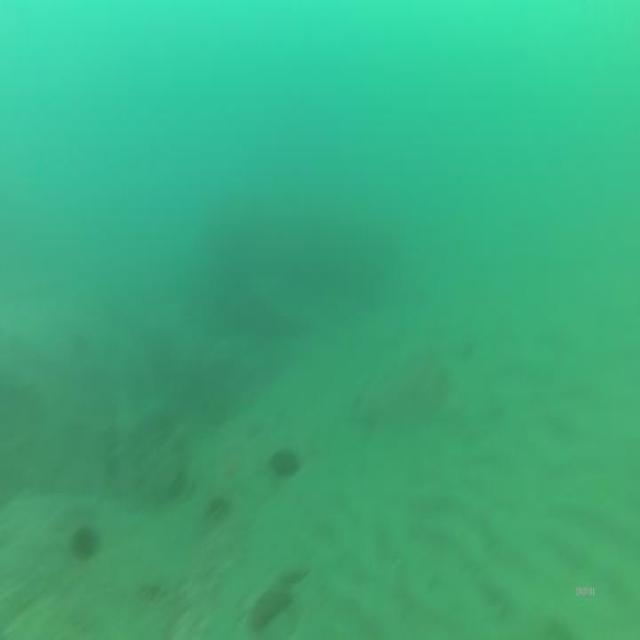echinus: (68, 517, 102, 561), (268, 446, 300, 485)
